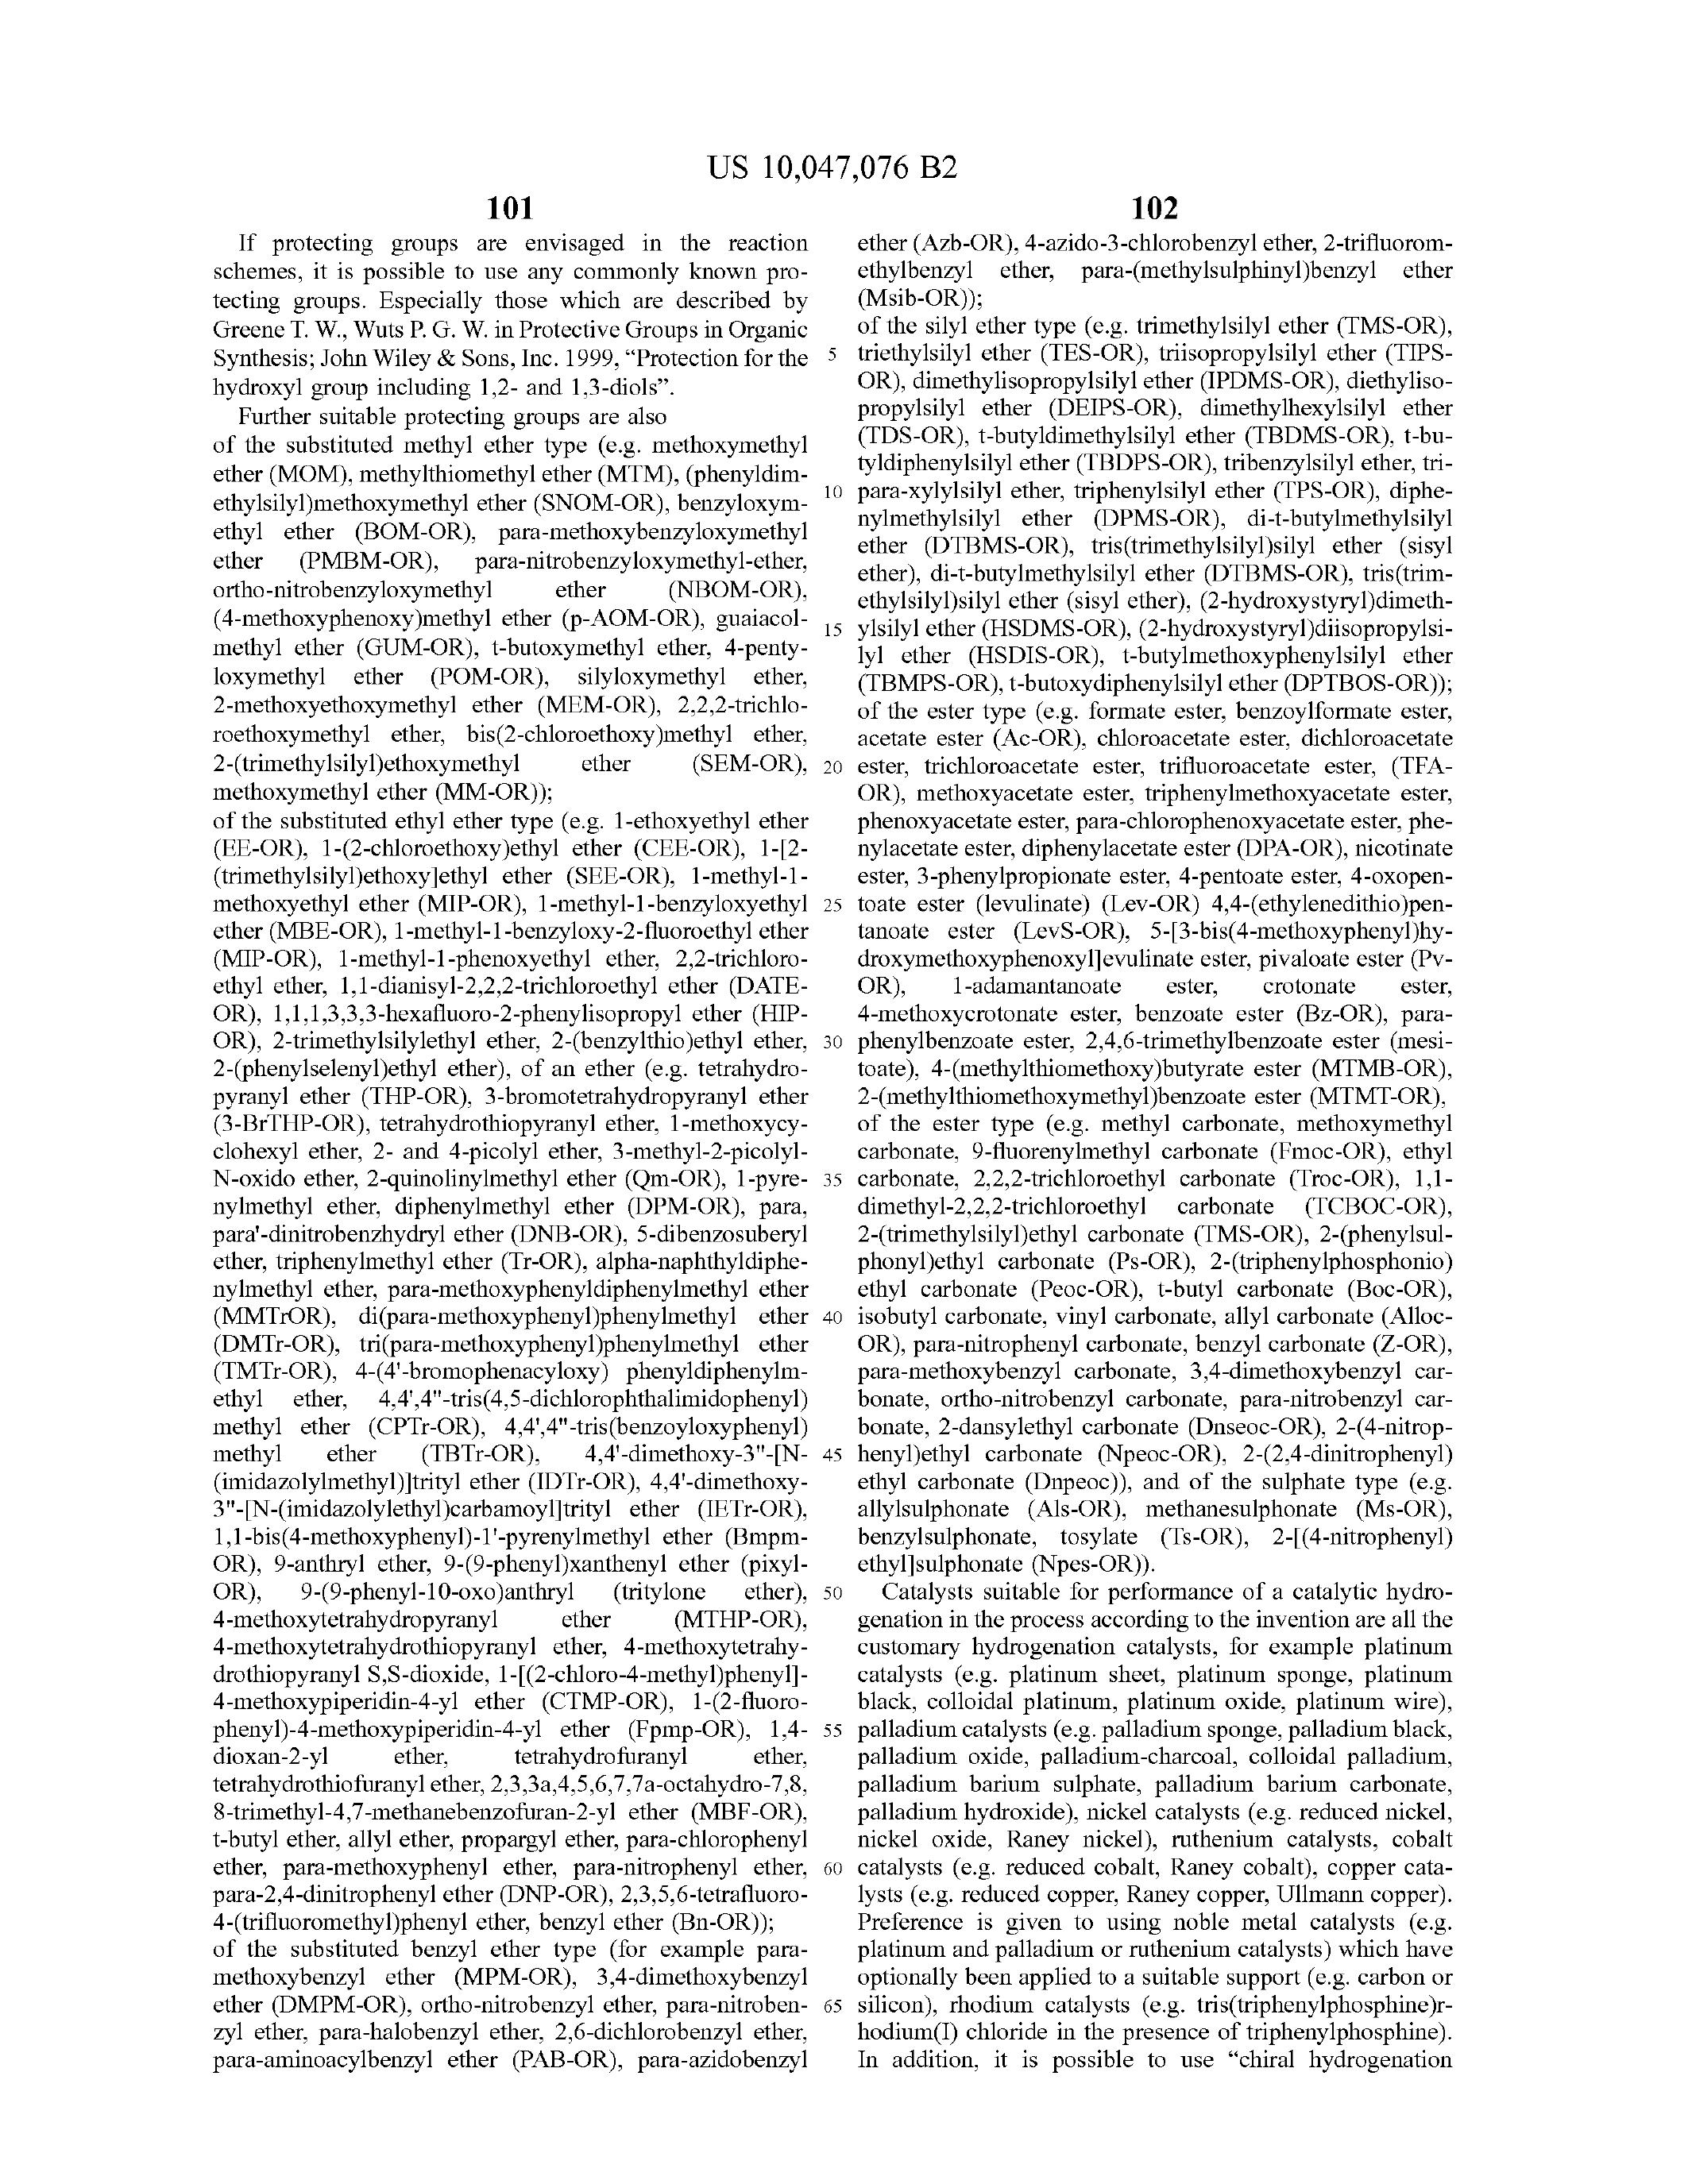substitutes: (209, 409, 809, 803)
